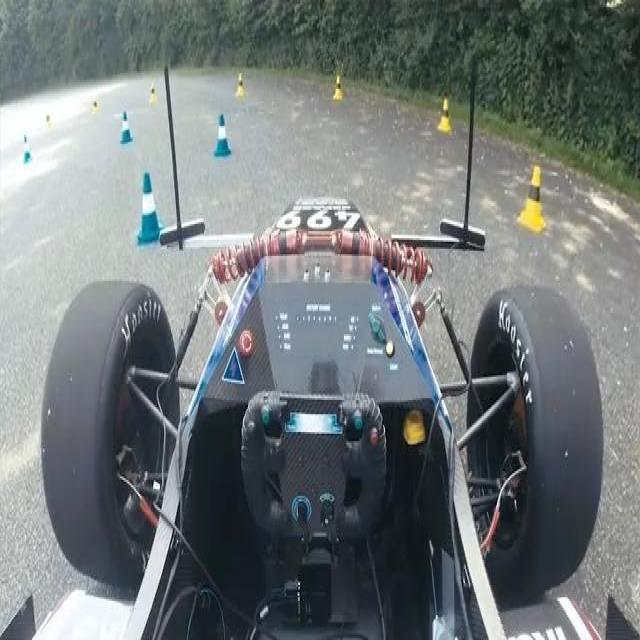blue_cone: (136, 170, 164, 244), (214, 112, 231, 157), (119, 110, 133, 145)
yellow_cone: (519, 163, 546, 231), (438, 100, 451, 132), (234, 73, 246, 99), (333, 75, 343, 99)
